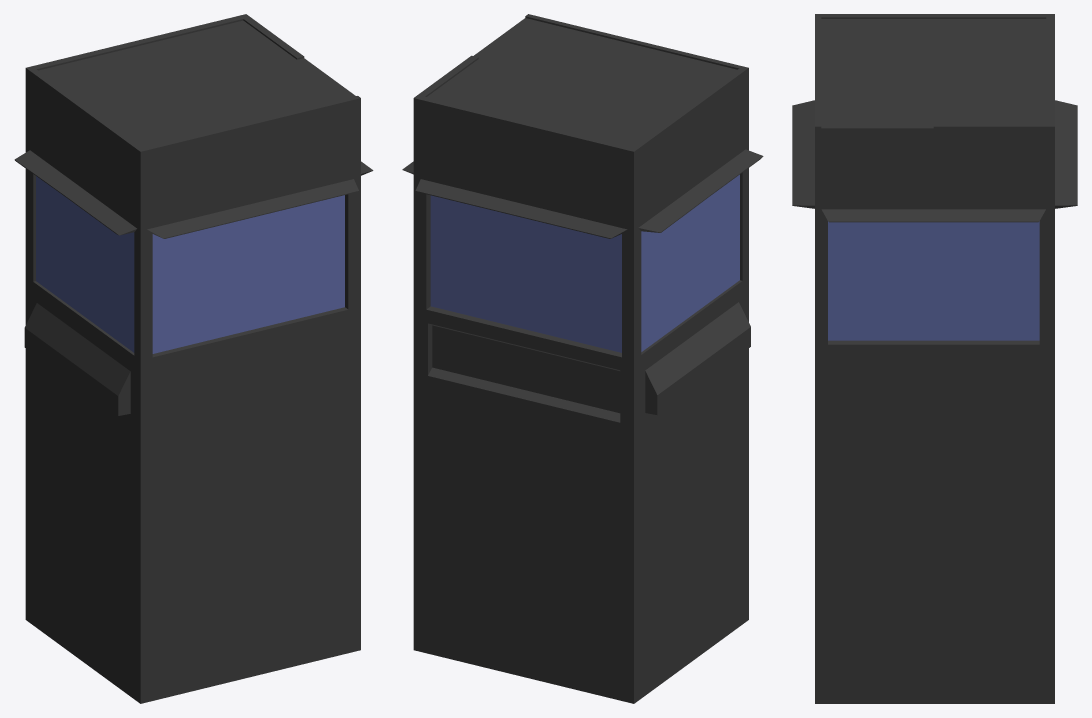
Rendered from Building_Two_Retexture.fbx.
The picture shows the model from 3 angles, left to right: view 1: azimuth 30°, elevation 25°; view 2: azimuth 150°, elevation 25°; view 3: azimuth 270°, elevation 25°; orthographic projection. The views are drawn at different scales.
Parts seen in each view (by area): view 1: pCube2; view 2: pCube2; view 3: pCube2.
Boxes of the visible parts, x1,y1,x2,y2 form: pCube2: [14, 14, 373, 703]; pCube2: [402, 14, 763, 703]; pCube2: [792, 14, 1077, 703].
Bounding box in the file's own units: 1026 × 2098 × 941.
